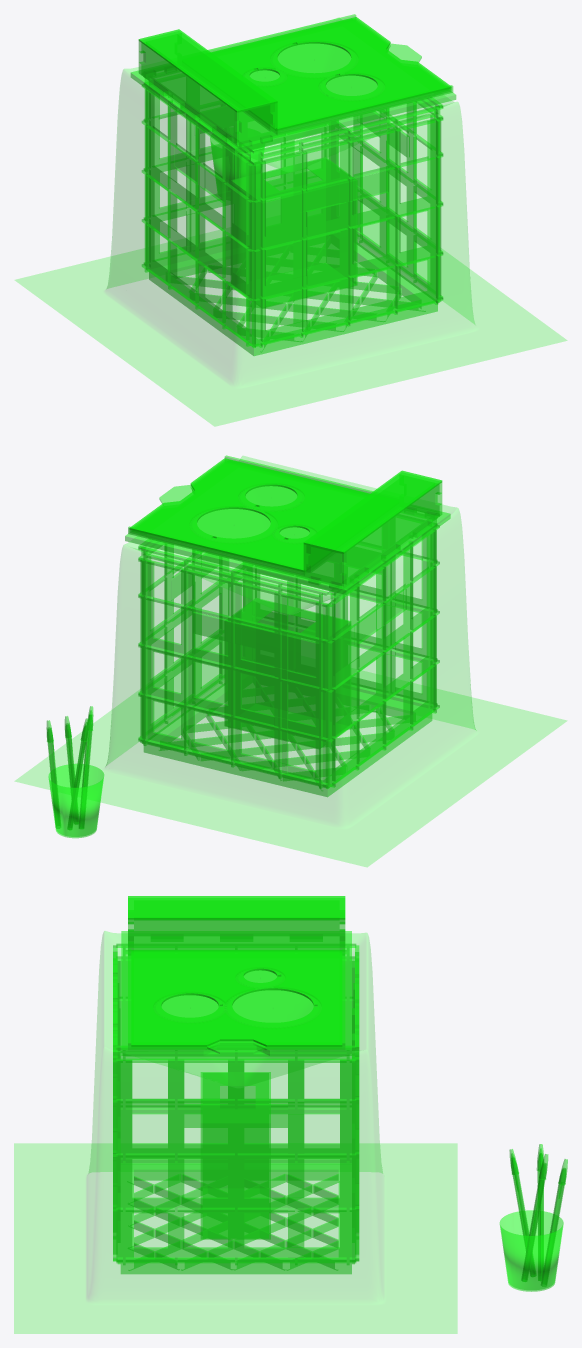
The model's file is ruyi.glb.
3 renders of one model, top to bottom at view 1: azimuth 30°, elevation 25°; view 2: azimuth 150°, elevation 25°; view 3: azimuth 270°, elevation 25°, orthographic. The views are drawn at different scales.
Parts seen in each view (by area): view 1: d6c8f8b3-03d8-4511-9dc9-ff0c554b49b6, 2916adbd-99a7-4bcf-838c-2410868e6f9c, d90b4aed-083a-4058-8ca4-2ad30ce8dd8d, 2c91535f-0218-450c-a1ef-35c27bee6cf0, defa376a-ec3e-4295-a979-800b88c023da, 864e65ef-85c7-4146-a35b-97382576d16d, 7d365bce-04df-469f-9c2a-973f03752121, b073a70d-0069-469e-aef6-cba45416ff10, 7e97d520-bfc7-41d7-80cc-32d7eafbcbf5, 2eb76da2-62ae-42b0-9a24-1c3f2af2e49a, 27de3930-d4a6-4a38-9e46-05079cb06071, 052db97e-47bc-4075-ba8d-9c96b00e6abb (+8 smaller); view 2: d6c8f8b3-03d8-4511-9dc9-ff0c554b49b6, 7d365bce-04df-469f-9c2a-973f03752121, d90b4aed-083a-4058-8ca4-2ad30ce8dd8d, 2c91535f-0218-450c-a1ef-35c27bee6cf0, defa376a-ec3e-4295-a979-800b88c023da, 864e65ef-85c7-4146-a35b-97382576d16d, 2916adbd-99a7-4bcf-838c-2410868e6f9c, b073a70d-0069-469e-aef6-cba45416ff10, 7e97d520-bfc7-41d7-80cc-32d7eafbcbf5, 2eb76da2-62ae-42b0-9a24-1c3f2af2e49a, 27de3930-d4a6-4a38-9e46-05079cb06071, 052db97e-47bc-4075-ba8d-9c96b00e6abb (+8 smaller); view 3: d6c8f8b3-03d8-4511-9dc9-ff0c554b49b6, 864e65ef-85c7-4146-a35b-97382576d16d, 2c91535f-0218-450c-a1ef-35c27bee6cf0, defa376a-ec3e-4295-a979-800b88c023da, 7e97d520-bfc7-41d7-80cc-32d7eafbcbf5, d90b4aed-083a-4058-8ca4-2ad30ce8dd8d, b073a70d-0069-469e-aef6-cba45416ff10, 8a5afceb-d87f-4399-a89d-dee6ea0c350a, 2eb76da2-62ae-42b0-9a24-1c3f2af2e49a, 052db97e-47bc-4075-ba8d-9c96b00e6abb, 27de3930-d4a6-4a38-9e46-05079cb06071, 7d365bce-04df-469f-9c2a-973f03752121 (+4 smaller).
Part boxes in pixels (left/top/right/bottom): d6c8f8b3-03d8-4511-9dc9-ff0c554b49b6: left=15, top=17, right=566, bottom=426; 2916adbd-99a7-4bcf-838c-2410868e6f9c: left=252, top=105, right=442, bottom=347; d90b4aed-083a-4058-8ca4-2ad30ce8dd8d: left=142, top=79, right=255, bottom=347; 2c91535f-0218-450c-a1ef-35c27bee6cf0: left=210, top=17, right=451, bottom=130; defa376a-ec3e-4295-a979-800b88c023da: left=149, top=243, right=437, bottom=355; 864e65ef-85c7-4146-a35b-97382576d16d: left=329, top=98, right=442, bottom=302; 7d365bce-04df-469f-9c2a-973f03752121: left=144, top=89, right=334, bottom=269; b073a70d-0069-469e-aef6-cba45416ff10: left=130, top=67, right=456, bottom=153; 7e97d520-bfc7-41d7-80cc-32d7eafbcbf5: left=232, top=158, right=355, bottom=306; 2eb76da2-62ae-42b0-9a24-1c3f2af2e49a: left=138, top=29, right=277, bottom=112; 27de3930-d4a6-4a38-9e46-05079cb06071: left=138, top=43, right=241, bottom=142; 052db97e-47bc-4075-ba8d-9c96b00e6abb: left=250, top=43, right=451, bottom=133; d6c8f8b3-03d8-4511-9dc9-ff0c554b49b6: left=15, top=456, right=566, bottom=866; 7d365bce-04df-469f-9c2a-973f03752121: left=138, top=546, right=329, bottom=788; d90b4aed-083a-4058-8ca4-2ad30ce8dd8d: left=326, top=519, right=439, bottom=788; 2c91535f-0218-450c-a1ef-35c27bee6cf0: left=129, top=458, right=370, bottom=571; defa376a-ec3e-4295-a979-800b88c023da: left=144, top=684, right=431, bottom=796; 864e65ef-85c7-4146-a35b-97382576d16d: left=138, top=539, right=251, bottom=743; 2916adbd-99a7-4bcf-838c-2410868e6f9c: left=247, top=532, right=437, bottom=709; b073a70d-0069-469e-aef6-cba45416ff10: left=125, top=491, right=450, bottom=594; 7e97d520-bfc7-41d7-80cc-32d7eafbcbf5: left=226, top=599, right=349, bottom=747; 2eb76da2-62ae-42b0-9a24-1c3f2af2e49a: left=303, top=470, right=442, bottom=553; 27de3930-d4a6-4a38-9e46-05079cb06071: left=339, top=484, right=442, bottom=584; 052db97e-47bc-4075-ba8d-9c96b00e6abb: left=129, top=486, right=309, bottom=574; d6c8f8b3-03d8-4511-9dc9-ff0c554b49b6: left=14, top=931, right=567, bottom=1333; 864e65ef-85c7-4146-a35b-97382576d16d: left=116, top=1045, right=356, bottom=1264; 2c91535f-0218-450c-a1ef-35c27bee6cf0: left=131, top=950, right=342, bottom=1046; defa376a-ec3e-4295-a979-800b88c023da: left=121, top=1164, right=351, bottom=1273; 7e97d520-bfc7-41d7-80cc-32d7eafbcbf5: left=202, top=1072, right=268, bottom=1239; d90b4aed-083a-4058-8ca4-2ad30ce8dd8d: left=116, top=943, right=356, bottom=1163; b073a70d-0069-469e-aef6-cba45416ff10: left=121, top=931, right=351, bottom=1055; 8a5afceb-d87f-4399-a89d-dee6ea0c350a: left=128, top=919, right=345, bottom=950; 2eb76da2-62ae-42b0-9a24-1c3f2af2e49a: left=128, top=896, right=345, bottom=919; 052db97e-47bc-4075-ba8d-9c96b00e6abb: left=131, top=970, right=342, bottom=1050; 27de3930-d4a6-4a38-9e46-05079cb06071: left=128, top=920, right=344, bottom=936; 7d365bce-04df-469f-9c2a-973f03752121: left=352, top=945, right=359, bottom=1263.
Bounding box in the file's own units: 680 × 478 × 835.
